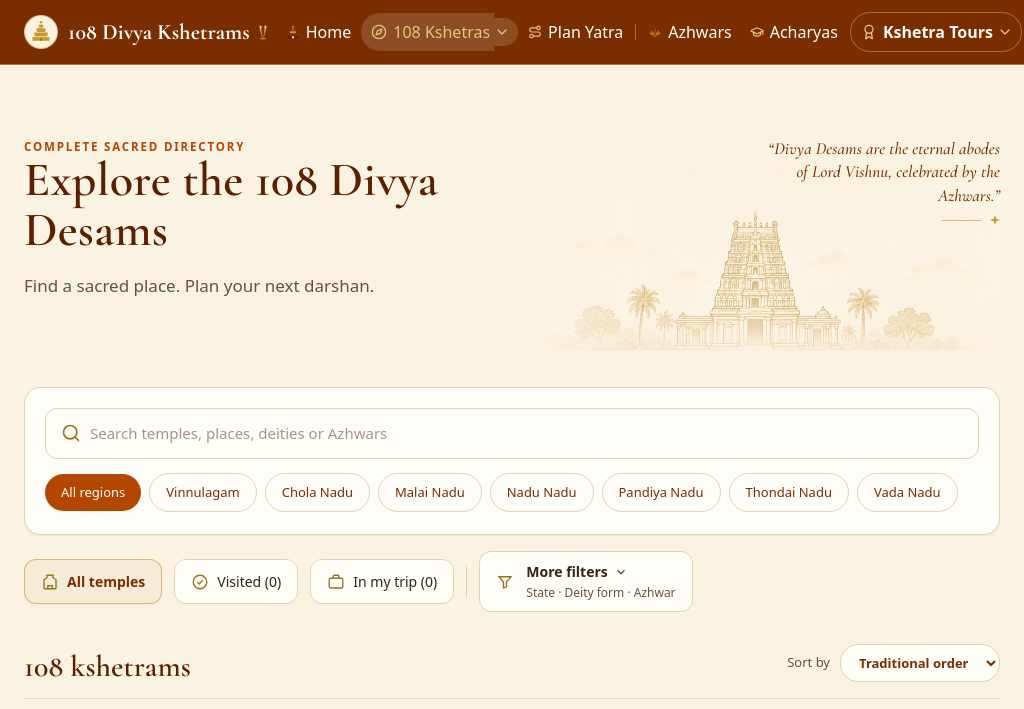
Scenario: BrowsePage (UT-BRW-01..04) › shows the empty state and restores all 108 after reset (UT-BRW-03/04)
Type "atlantis" into the field named "search kshetrams".
click(512, 433); type("atlantis")  # box [45,408,979,459]
(page scrolled)
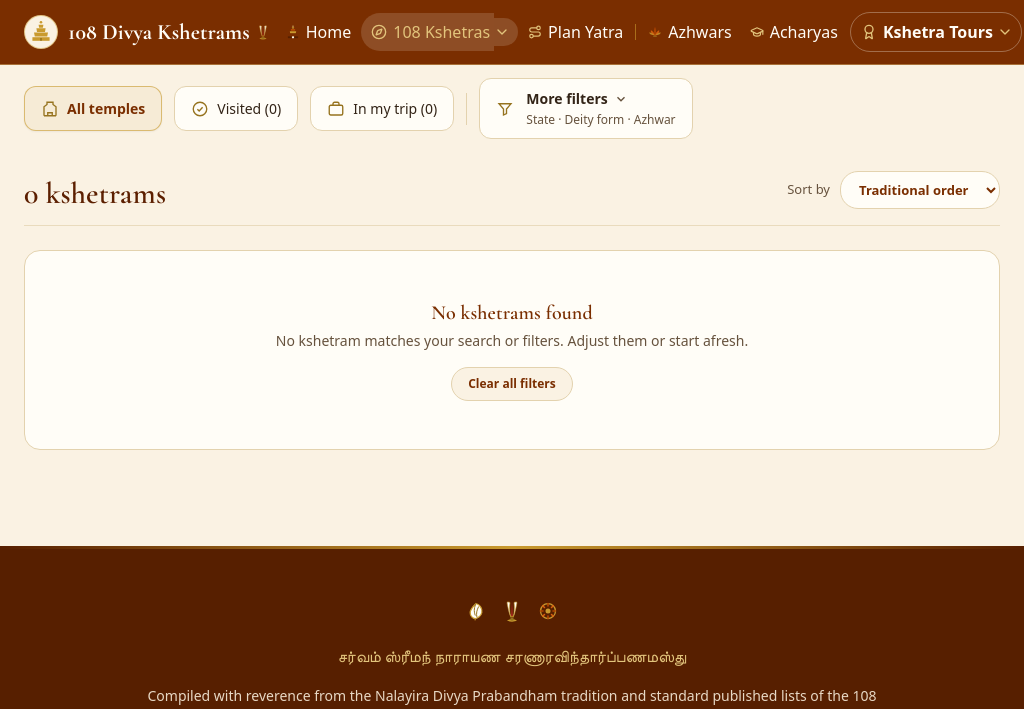
Now the text "No kshetrams found" is shown, box [431,301,593,325]
Click the button "Clear all filters".
click(512, 384)  # box [451,367,573,401]
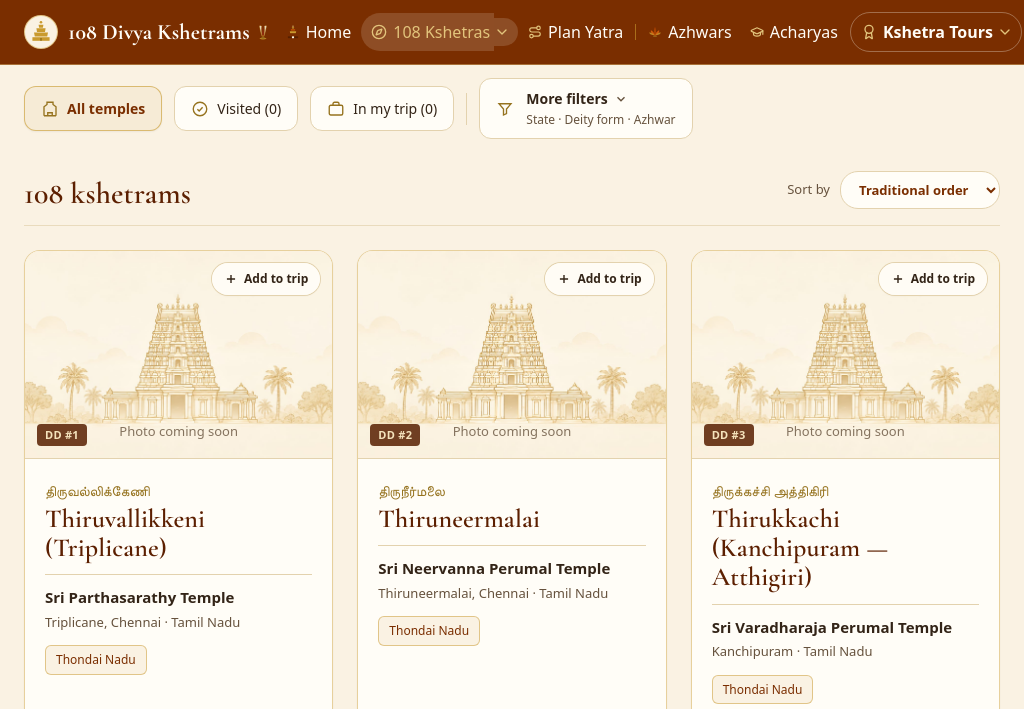
Now the text "108 kshetrams" is shown, box [24,179,191,209]
